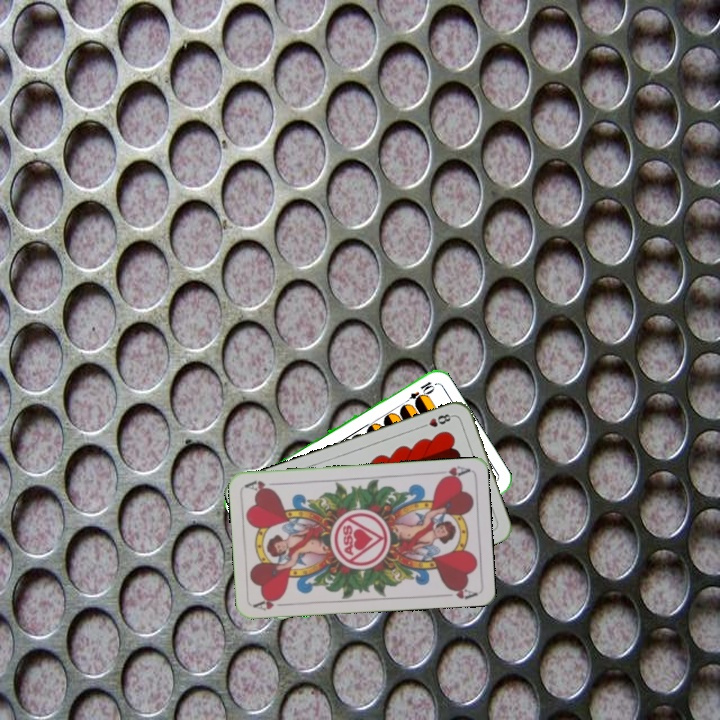E10: (399, 377, 437, 408)
H8: (416, 410, 456, 431)
HA: (250, 593, 291, 613), (435, 462, 472, 482)
